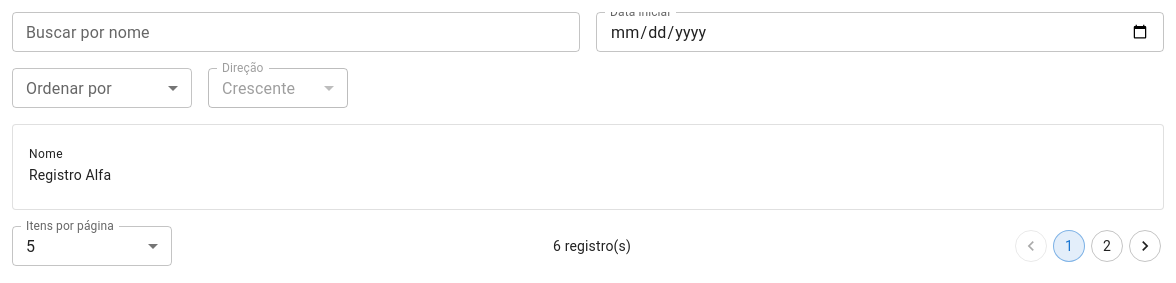
PaginatedList — contrato da #29 e feedback da #27 › usa paginação zero-based e reinicia a página ao filtrar por data
This screenshot has width=1176, height=283.
Expected: the text "Registro Alfa" is shown, [29,167,111,183]
Click the button named "go to page 2" at (1107, 246), box [1091,230,1123,262]
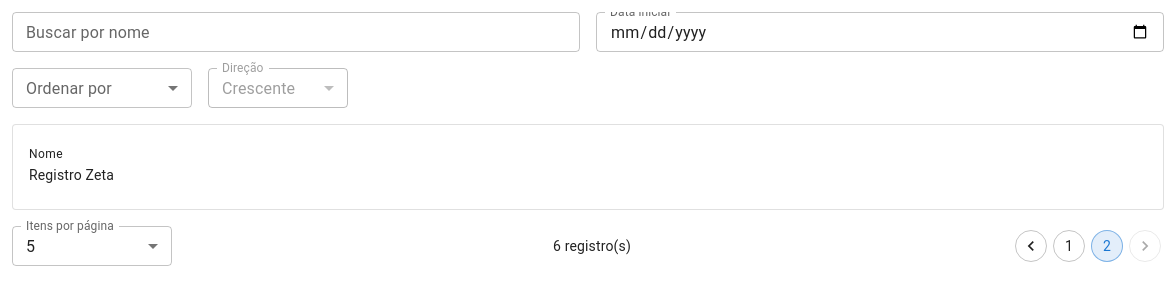
Expected: the text "Registro Zeta" is shown, [29,167,114,183]
Type "2026-03-01" into the date field labelled "Data inicial" at (880, 32), box [596,12,1164,52]
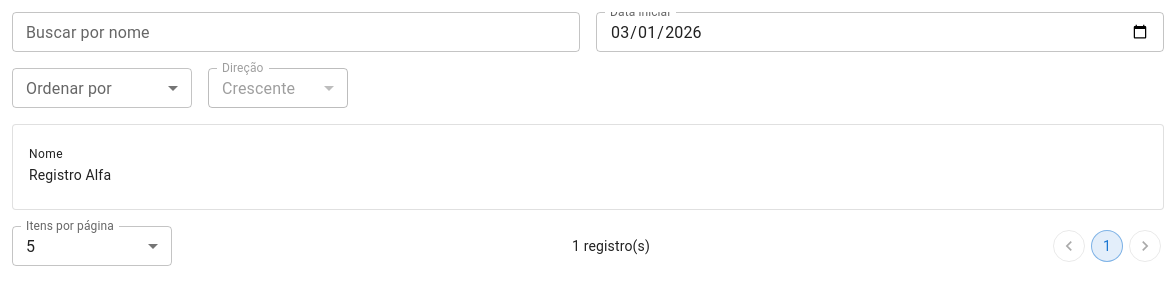
Expected: the text "Registro Alfa" is shown, [29,167,111,183]
